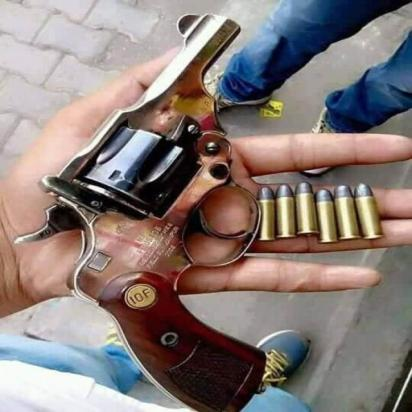Gun: (6, 11, 268, 412)
